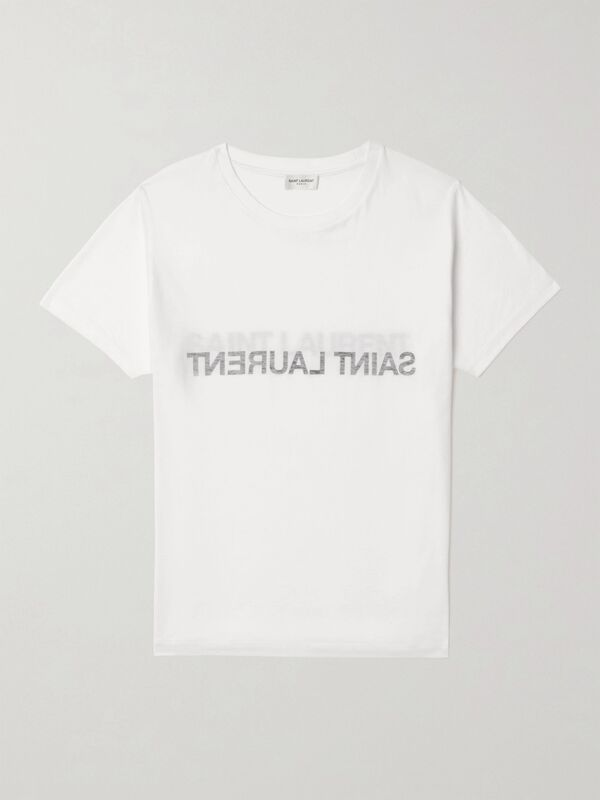tshirt: (34, 135, 563, 665)
